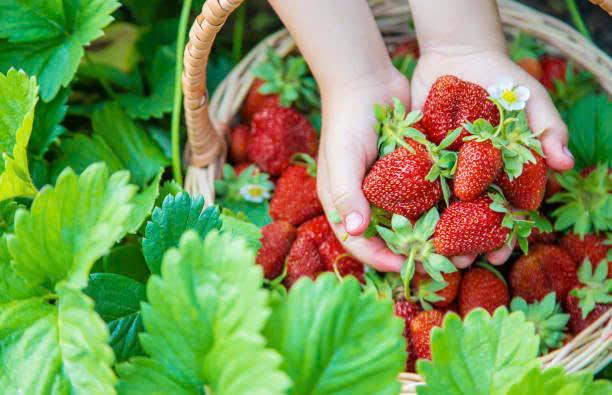strawberry: (454, 135, 574, 210), (428, 199, 537, 268), (235, 215, 344, 283), (359, 145, 461, 212), (400, 267, 505, 330), (426, 70, 500, 141), (255, 95, 323, 168), (264, 160, 328, 235), (498, 260, 612, 300)
